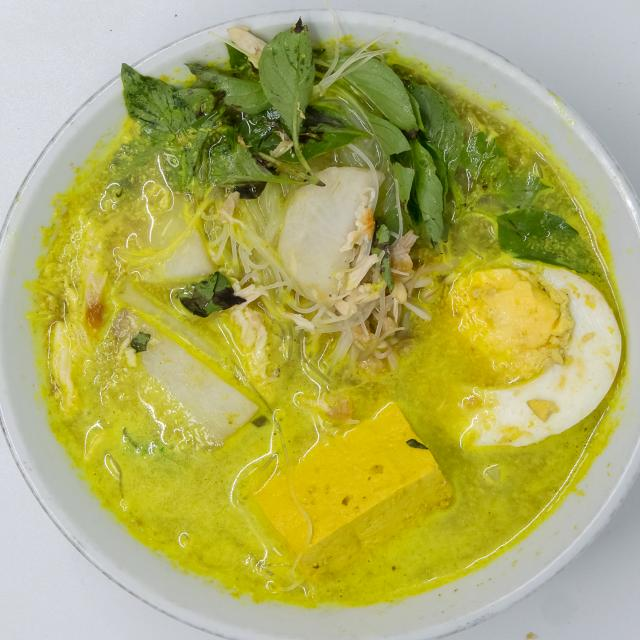Laksa-Bogor: (22, 12, 633, 617)
